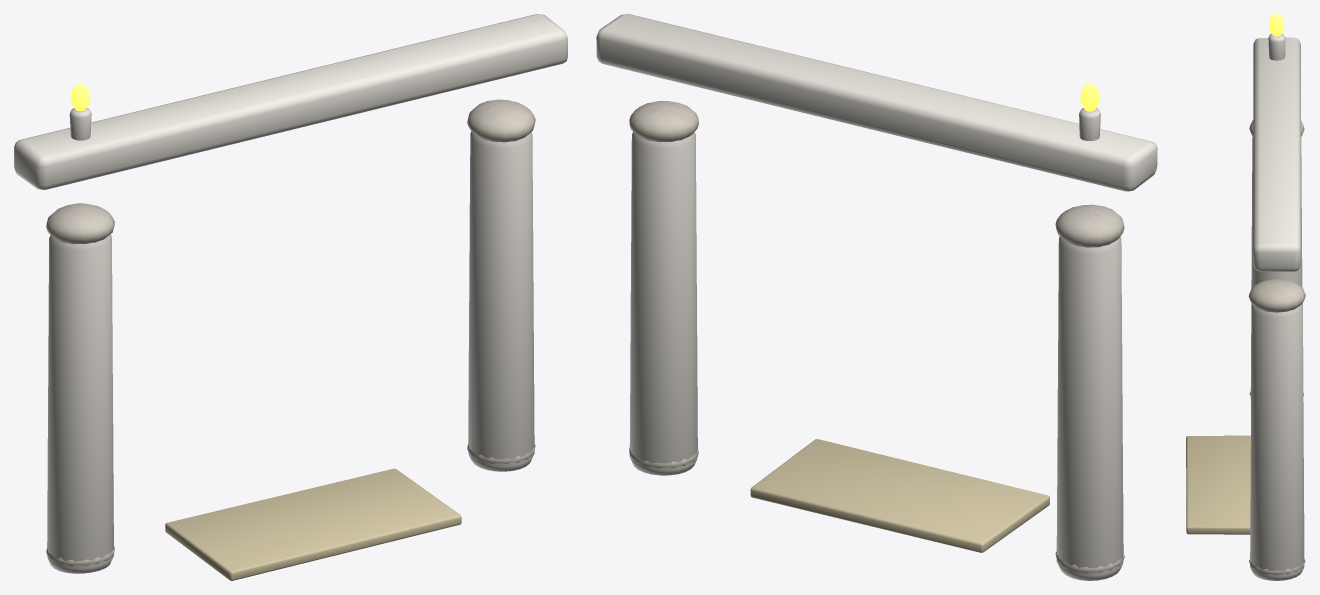
The picture shows the model from 3 angles, left to right: view 1: azimuth 30°, elevation 25°; view 2: azimuth 150°, elevation 25°; view 3: azimuth 270°, elevation 25°; orthographic projection. The views are drawn at different scales.
Visible parts, largest first — view 1: gate_2d43d9a4; view 2: gate_2d43d9a4; view 3: gate_2d43d9a4.
Part boxes in pixels (left/top/right/bottom): gate_2d43d9a4: left=14, top=14, right=567, bottom=580; gate_2d43d9a4: left=596, top=14, right=1157, bottom=580; gate_2d43d9a4: left=1186, top=14, right=1305, bottom=580.
Size of the model in its own units: 5.51 by 4.77 by 1.32.
